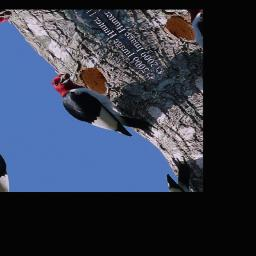Woodpecker: (36, 49, 165, 163)
